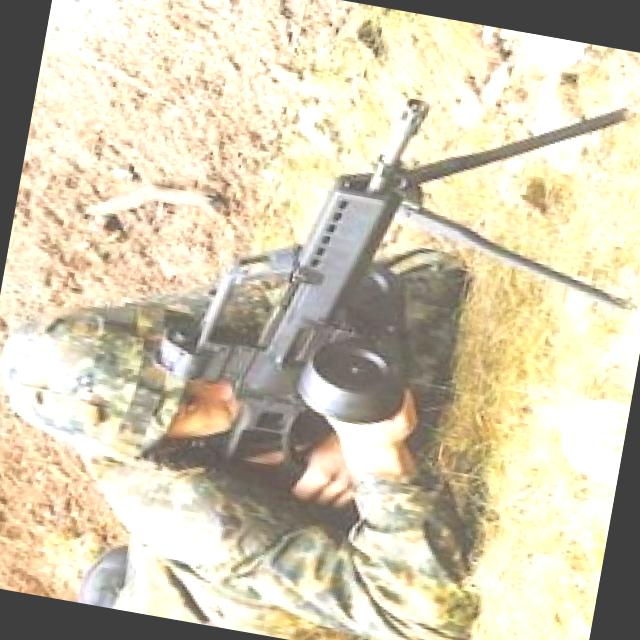long weapon: (168, 34, 639, 476)
